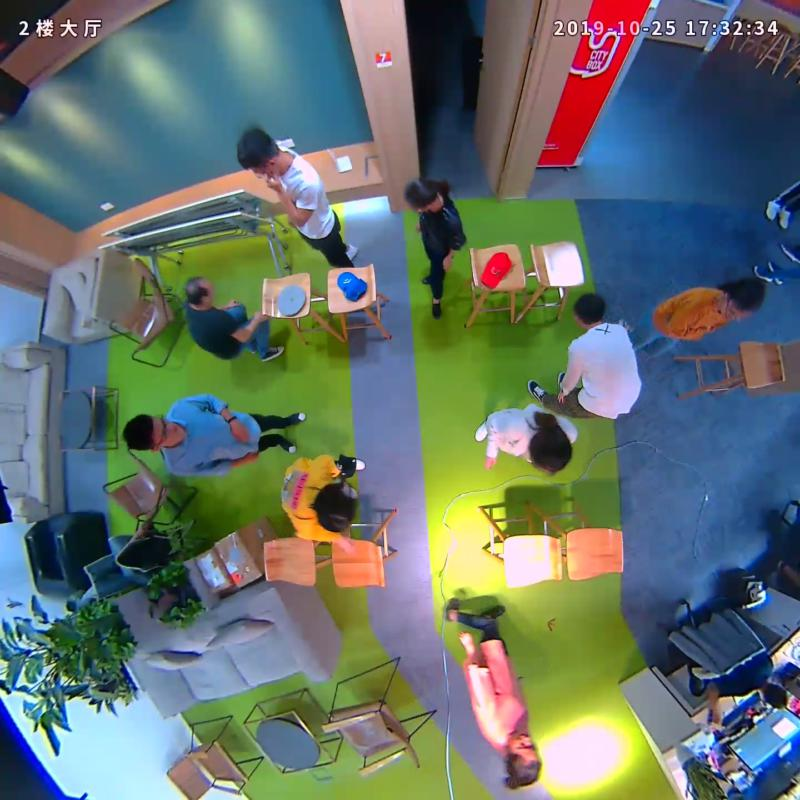head: (120, 409, 184, 459), (307, 481, 362, 534), (232, 126, 289, 177), (522, 428, 579, 477), (499, 734, 547, 788), (718, 269, 770, 318), (570, 290, 616, 326), (177, 272, 219, 308), (402, 177, 444, 212)
